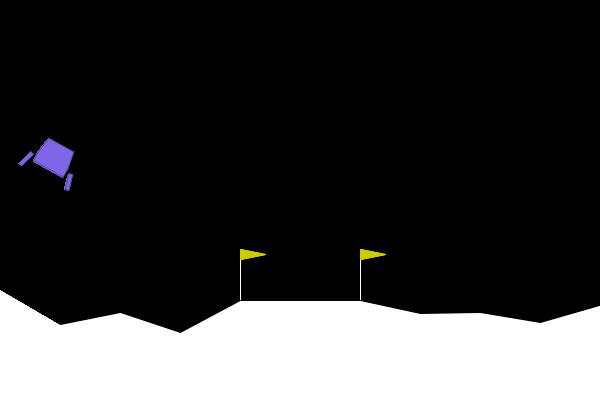lander: (16, 129, 88, 193)
